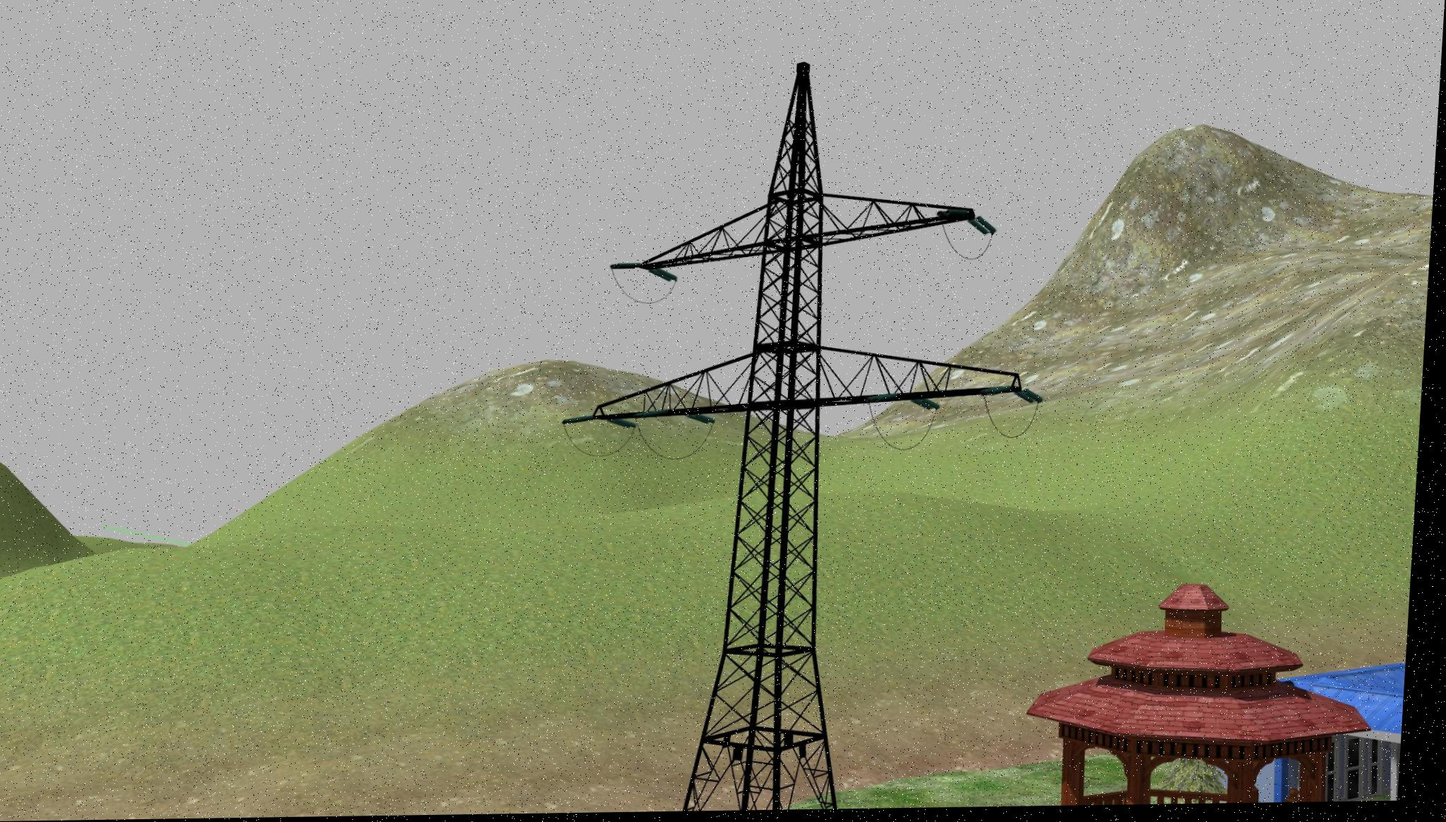tower: (563, 54, 1037, 813)
